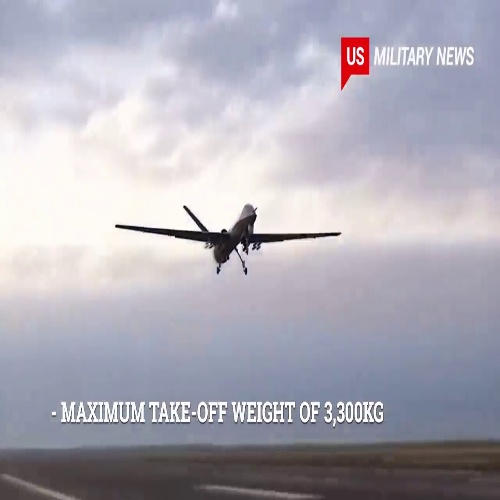uav662: (115, 200, 344, 275)
